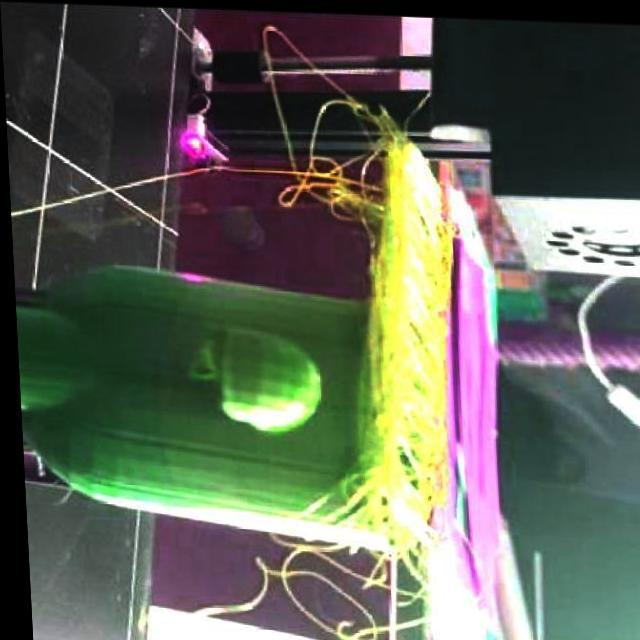spaghetti: (340, 99, 475, 524), (157, 519, 490, 640), (258, 20, 386, 223), (283, 465, 388, 544)
